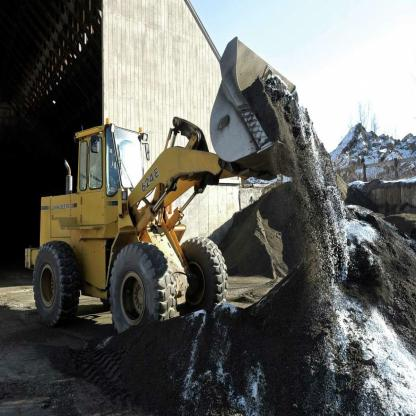bull_dozer/loader/grader: (23, 36, 304, 343)
